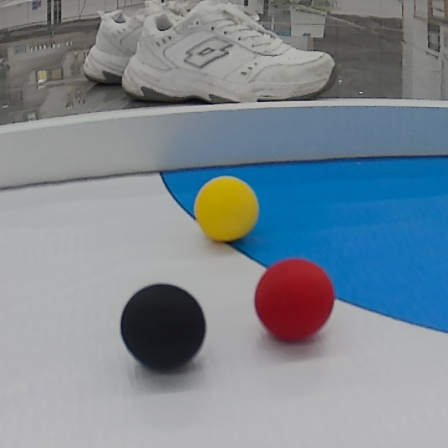black: (119, 280, 209, 374)
blue_base: (158, 150, 448, 337)
red: (253, 259, 335, 343)
yellow: (193, 175, 261, 246)
